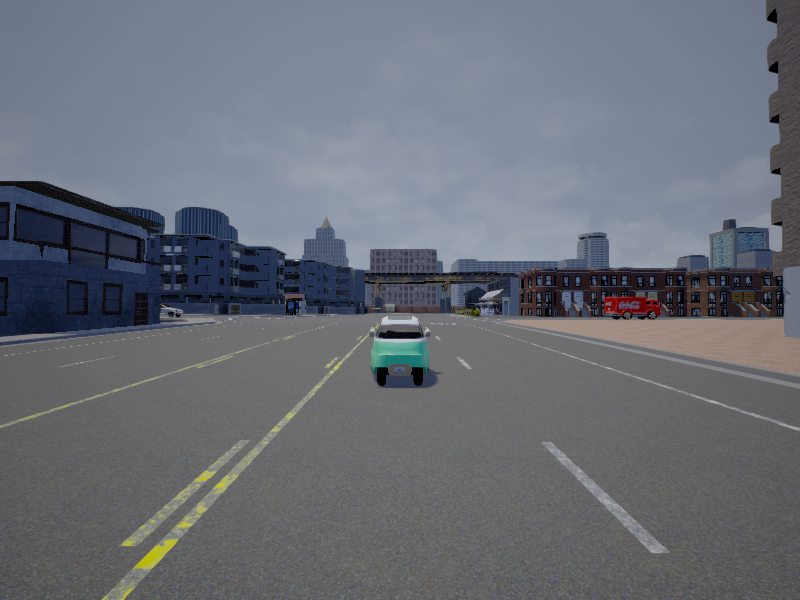Benign: (366, 314, 432, 387), (605, 296, 662, 321), (158, 301, 184, 318)
